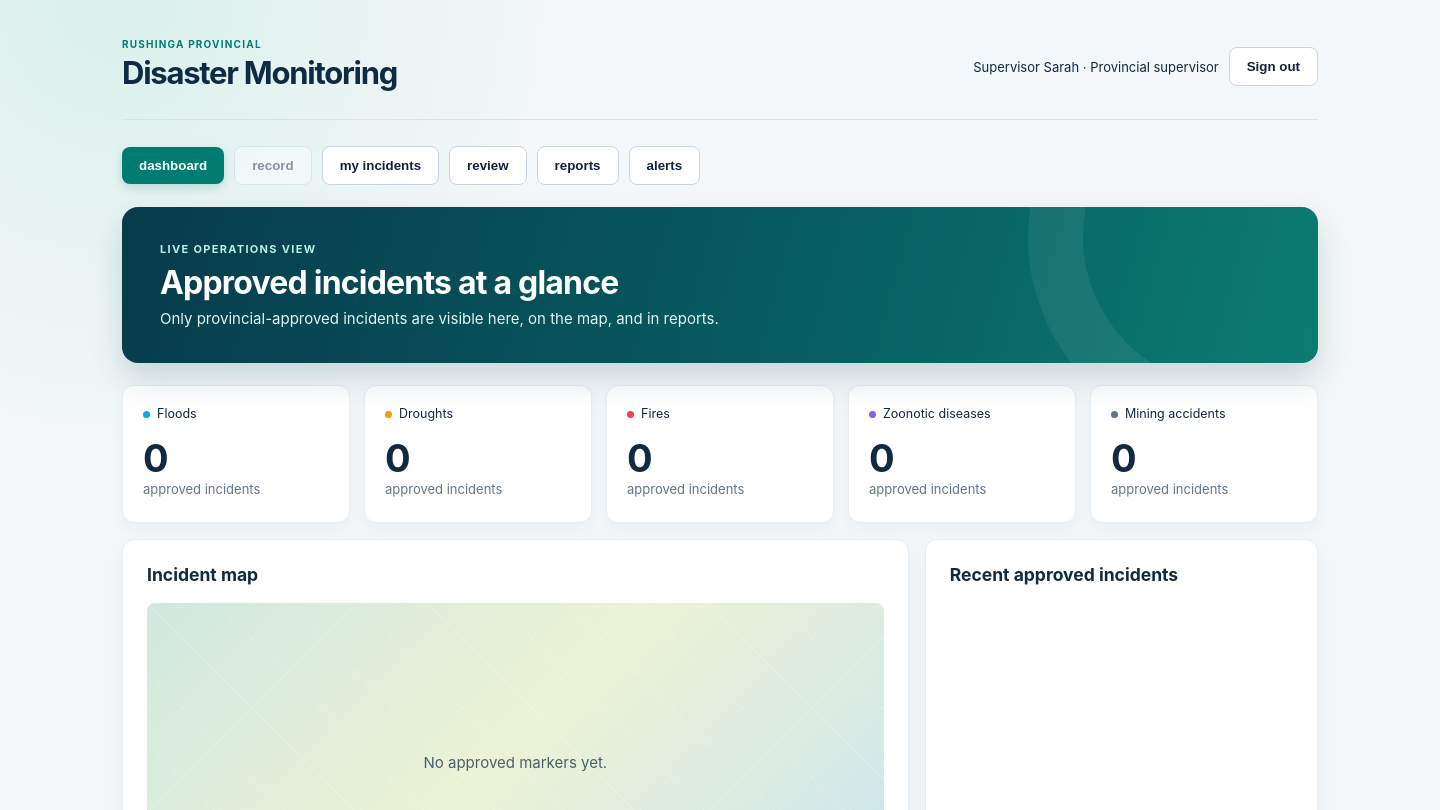
Supervisor Review, Decision and Dashboard Isolation Workflow › approves an incident and promotes it to the public dashboard and reports
The width and height of the screenshot is (1440, 810).
Review tab
Click the button "review".
click(488, 166)  # box [449,146,527,185]
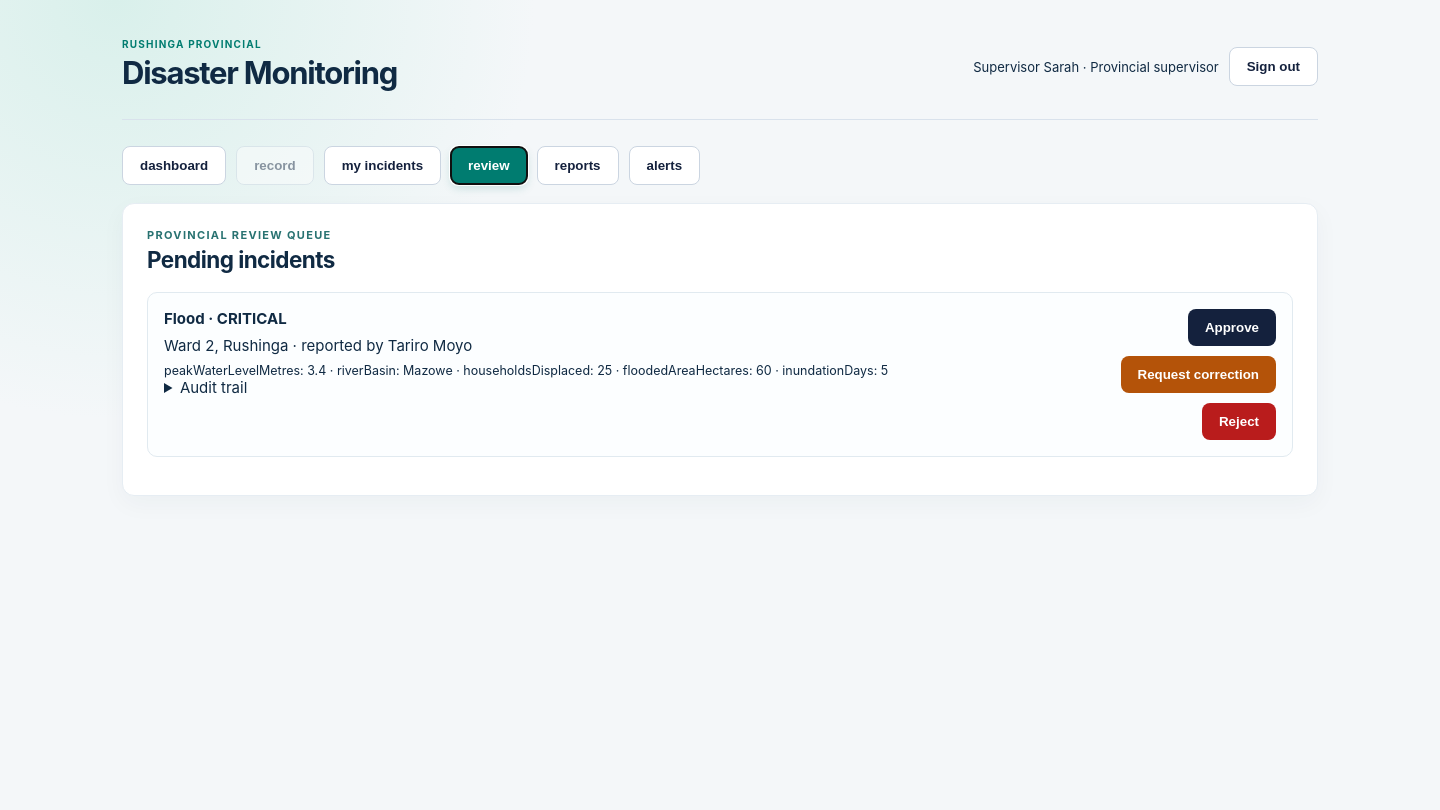
Now the text "Flood · CRITICAL" is shown, box [164,309,287,328]
Click Approve button
Click the button "Approve".
click(1232, 327)  # box [1188,309,1276,346]
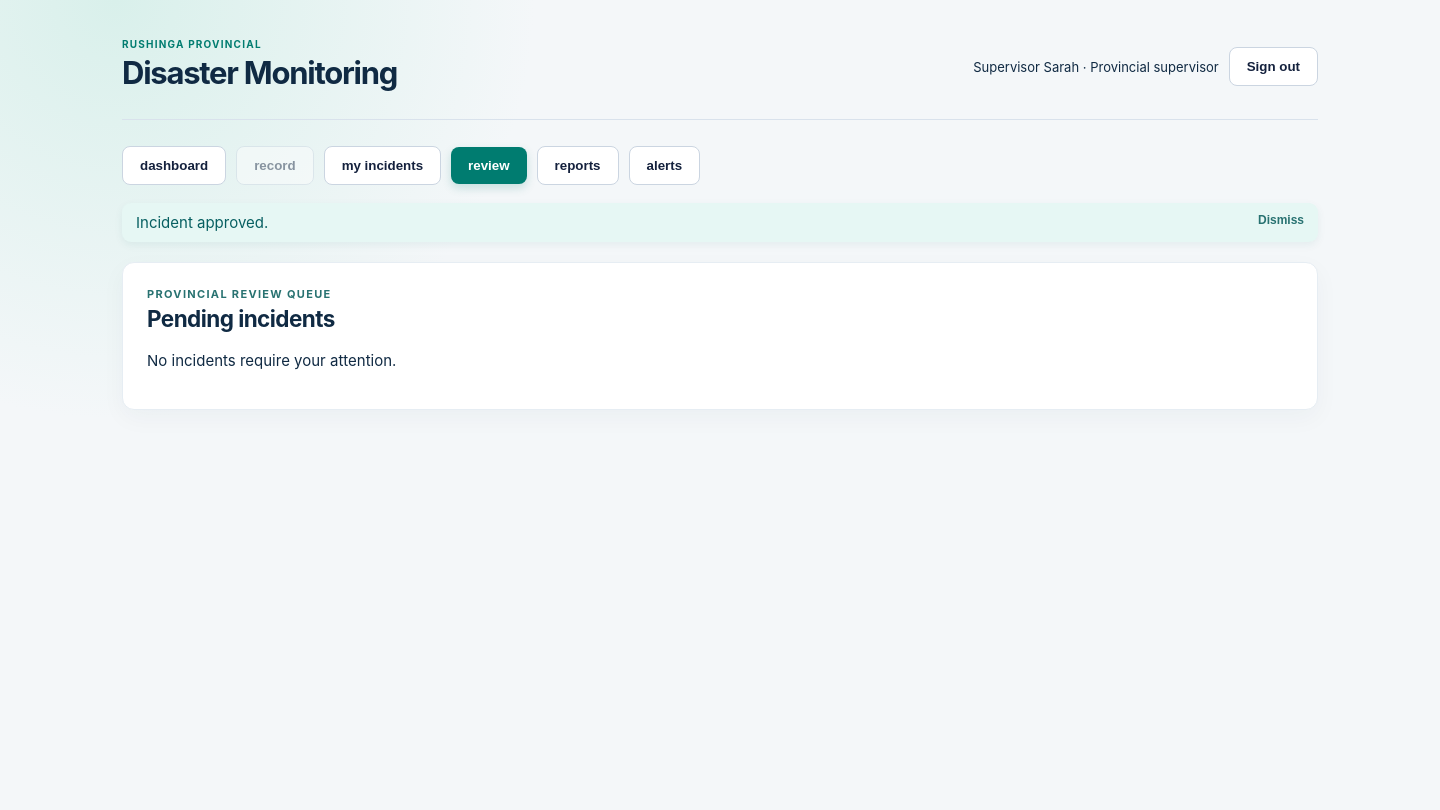
Now the text "Incident approved. Dismiss" is shown, box [122,203,1318,242]
Now the text "No incidents require your attention." is shown, box [147,351,396,370]
Check Dashboard reflects the approved incident
Click the button "dashboard".
click(174, 166)  # box [122,146,226,185]
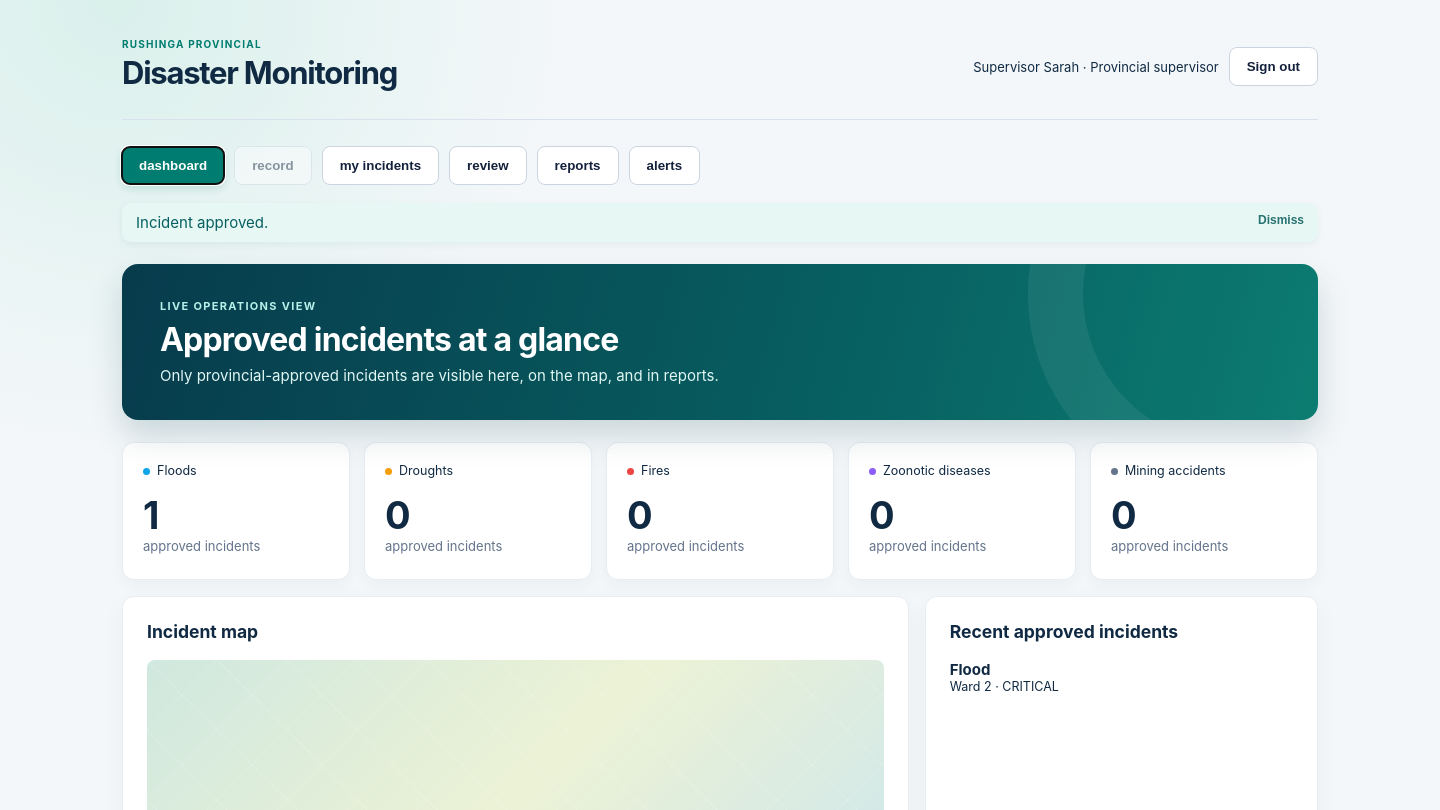
Now the text "Floods" is shown, box [157,463,197,478]
Now the text "Ward 2 · CRITICAL" is shown, box [950,678,1059,694]
Check Reports reflects the approved incident
Click the button "reports".
click(578, 166)  # box [537,146,618,185]
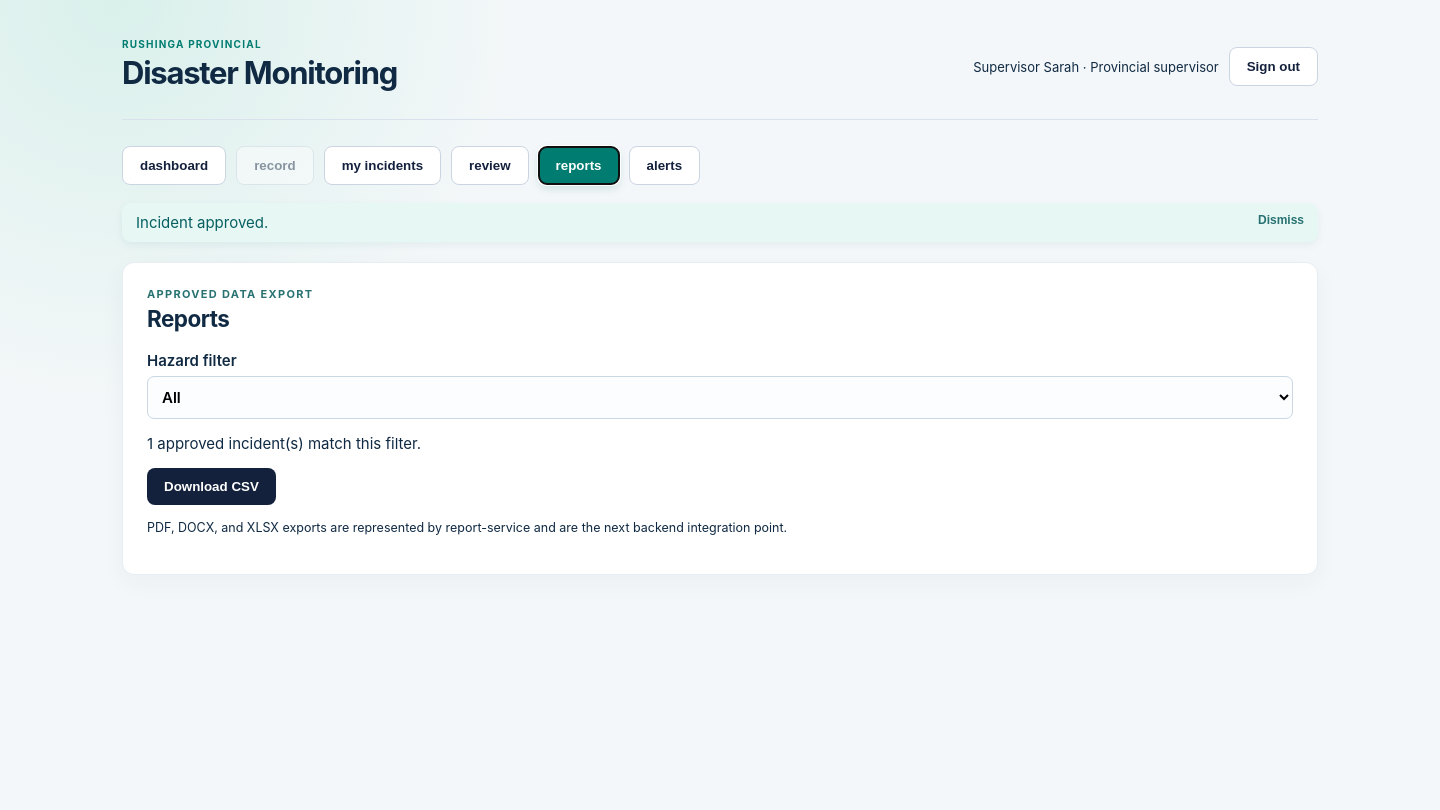
Now the text "1 approved incident(s) match this filter." is shown, box [147,434,421,453]
Now the button "Download CSV" is enabled, box [147,468,276,505]
Check Alerts tab includes critical flood
Click the button "alerts".
click(664, 166)  # box [628,146,700,185]
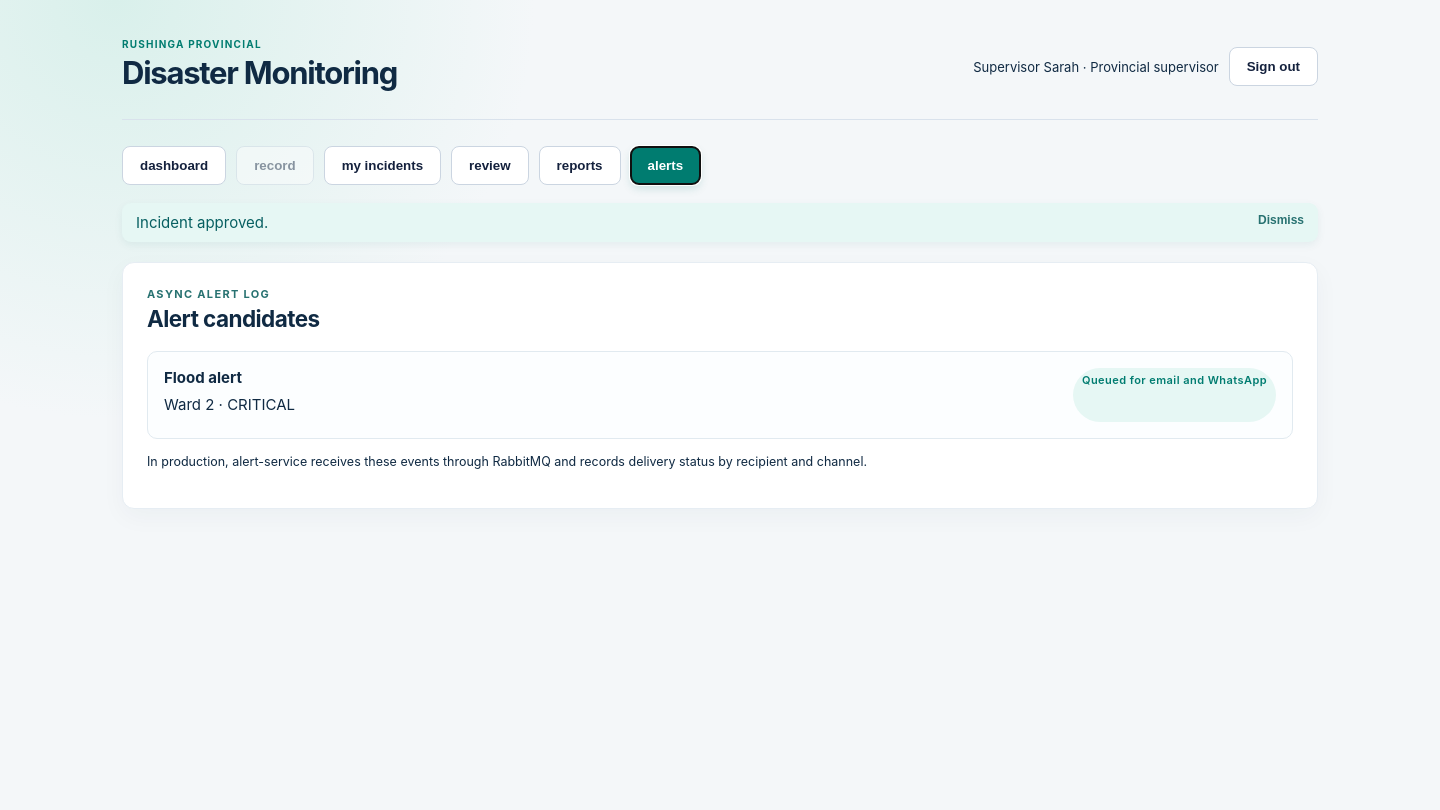
Now the text "Flood alert" is shown, box [164,368,242,387]
Now the text "Ward 2 · CRITICAL" is shown, box [164,395,295,414]
